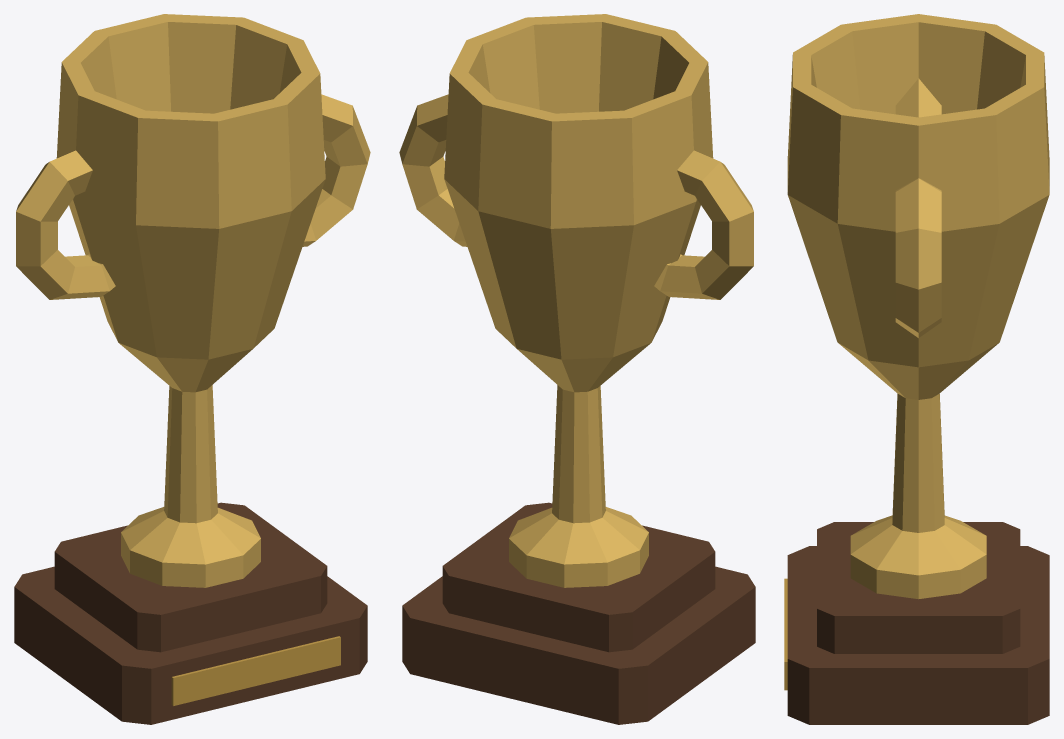
File: SM_LPI_Decor_Trophy_01.fbx
3 views of the same model, side by side, from view 1: azimuth 30°, elevation 25°; view 2: azimuth 150°, elevation 25°; view 3: azimuth 270°, elevation 25° (orthographic).
Visible parts, largest first — view 1: SM_LPI_Decor_Trophy_01; view 2: SM_LPI_Decor_Trophy_01; view 3: SM_LPI_Decor_Trophy_01.
Boxes of the visible parts, box(x1,y1,x2,y2) form: SM_LPI_Decor_Trophy_01: box(14, 14, 370, 724); SM_LPI_Decor_Trophy_01: box(399, 14, 755, 724); SM_LPI_Decor_Trophy_01: box(784, 14, 1049, 724).
Bounding box in the file's own units: 0.1904 × 0.3 × 0.1215.
